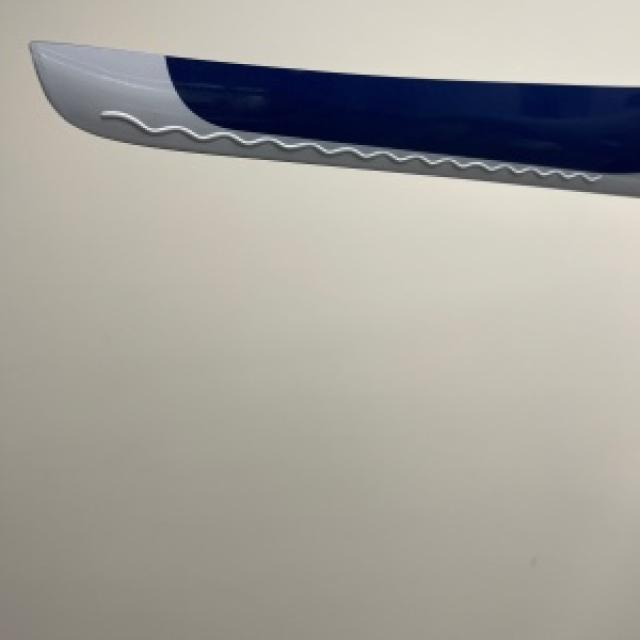healthy: (30, 43, 638, 192)
